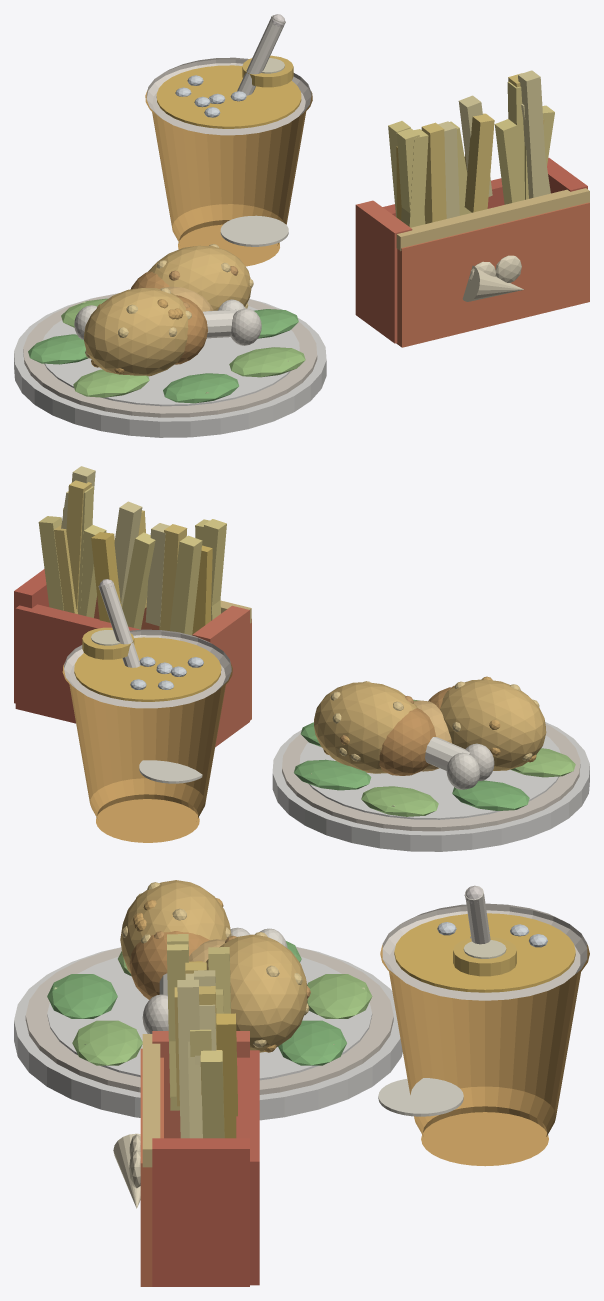
Rendered from combo_tiec.glb.
The picture shows the model from 3 angles, top to bottom: view 1: azimuth 30°, elevation 25°; view 2: azimuth 150°, elevation 25°; view 3: azimuth 270°, elevation 25°; orthographic projection. The views are drawn at different scales.
Parts seen in each view (by area): view 1: combo_node_0075, combo_node_0102, combo_node_0000, combo_node_0017, combo_node_0103, combo_node_0002, combo_node_0001, combo_node_0076, combo_node_0045, combo_node_0079, combo_node_0104, combo_node_0088 (+24 smaller); view 2: combo_node_0102, combo_node_0000, combo_node_0074, combo_node_0017, combo_node_0103, combo_node_0045, combo_node_0001, combo_node_0002, combo_node_0076, combo_node_0046, combo_node_0104, combo_node_0086 (+24 smaller); view 3: combo_node_0102, combo_node_0077, combo_node_0000, combo_node_0103, combo_node_0001, combo_node_0045, combo_node_0002, combo_node_0017, combo_node_0104, combo_node_0074, combo_node_0105, combo_node_0005 (+21 smaller).
Boxes of the visible parts, x1=… form: combo_node_0075: x1=396, y1=202, x2=589, y2=347; combo_node_0102: x1=145, y1=90, x2=312, y2=266; combo_node_0000: x1=14, y1=293, x2=326, y2=437; combo_node_0017: x1=84, y1=288, x2=188, y2=376; combo_node_0103: x1=156, y1=65, x2=301, y2=128; combo_node_0002: x1=42, y1=306, x2=299, y2=406; combo_node_0001: x1=23, y1=293, x2=317, y2=417; combo_node_0076: x1=355, y1=200, x2=412, y2=343; combo_node_0045: x1=148, y1=245, x2=251, y2=310; combo_node_0079: x1=396, y1=188, x2=589, y2=250; combo_node_0104: x1=146, y1=57, x2=311, y2=135; combo_node_0088: x1=518, y1=70, x2=547, y2=198; combo_node_0102: x1=62, y1=662, x2=232, y2=842; combo_node_0000: x1=272, y1=722, x2=589, y2=851; combo_node_0074: x1=15, y1=604, x2=139, y2=723; combo_node_0017: x1=440, y1=679, x2=546, y2=770; combo_node_0103: x1=74, y1=637, x2=221, y2=701; combo_node_0045: x1=314, y1=682, x2=417, y2=773; combo_node_0001: x1=282, y1=724, x2=580, y2=831; combo_node_0002: x1=299, y1=735, x2=560, y2=819; combo_node_0076: x1=192, y1=605, x2=249, y2=746; combo_node_0046: x1=379, y1=708, x2=436, y2=775; combo_node_0104: x1=64, y1=629, x2=231, y2=708; combo_node_0086: x1=170, y1=535, x2=202, y2=635; combo_node_0102: x1=380, y1=944, x2=589, y2=1166; combo_node_0077: x1=152, y1=1138, x2=249, y2=1286; combo_node_0000: x1=14, y1=946, x2=402, y2=1120; combo_node_0103: x1=394, y1=913, x2=575, y2=992; combo_node_0001: x1=25, y1=947, x2=393, y2=1094; combo_node_0045: x1=206, y1=934, x2=307, y2=1052; combo_node_0002: x1=47, y1=956, x2=372, y2=1080; combo_node_0017: x1=120, y1=880, x2=231, y2=973; combo_node_0104: x1=382, y1=903, x2=587, y2=1000; combo_node_0074: x1=236, y1=1050, x2=259, y2=1285; combo_node_0105: x1=378, y1=1078, x2=463, y2=1116; combo_node_0005: x1=72, y1=1020, x2=142, y2=1065.
Bounding box in the file's own units: 2.67 × 1.12 × 2.01.
